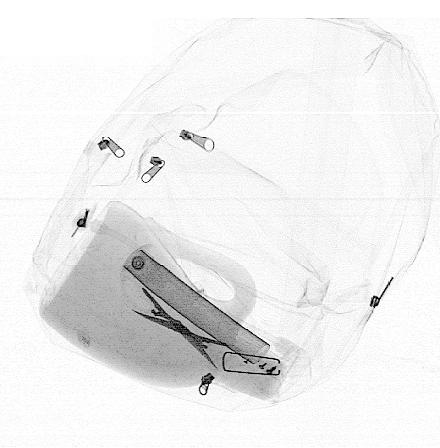Scissors: (120, 273, 254, 376)
